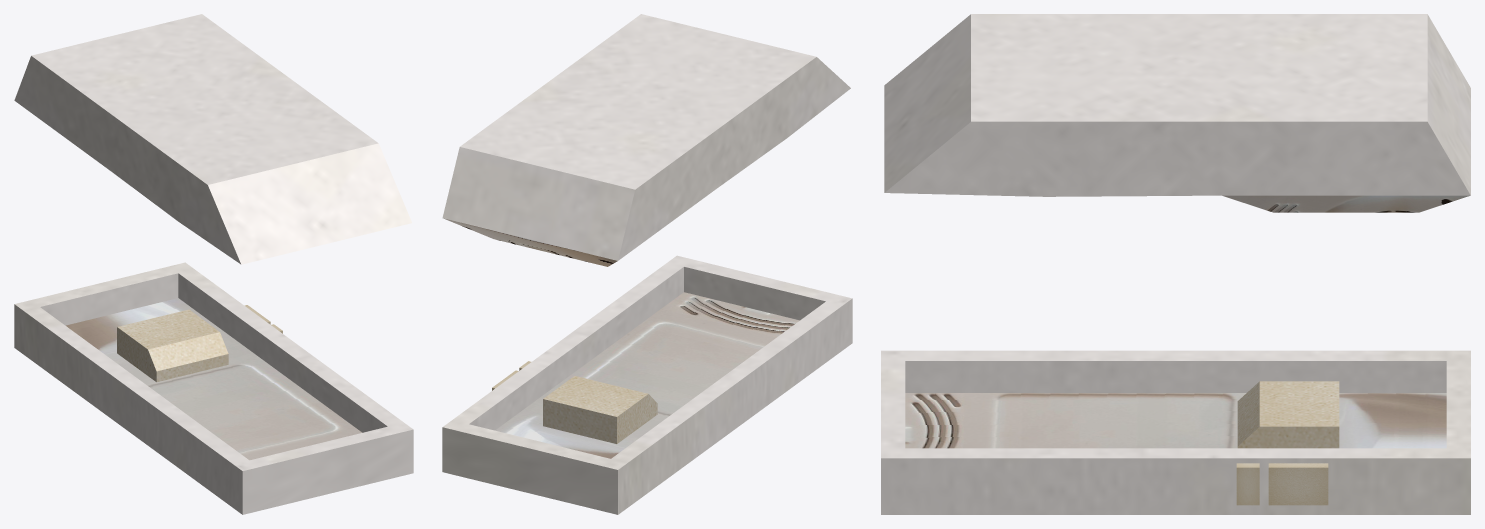
The model's file is intercom.FBX.
The picture shows the model from 3 angles, left to right: view 1: azimuth 30°, elevation 25°; view 2: azimuth 150°, elevation 25°; view 3: azimuth 270°, elevation 25°; orthographic projection. The views are drawn at different scales.
Visible parts, largest first — view 1: Object005, Box001, Object002, Box002; view 2: Object005, Box001, Object002, Box002, Object004; view 3: Object005, Box001, Object002, Box002, Object004, Box003, Box004.
Boxes of the visible parts, <box> form: Object005: <box>14,14,411,264</box>; Box001: <box>14,262,413,514</box>; Object002: <box>66,298,362,460</box>; Box002: <box>117,309,228,382</box>; Object005: <box>442,14,850,260</box>; Box001: <box>442,255,852,514</box>; Object002: <box>495,292,799,458</box>; Box002: <box>543,376,657,443</box>; Object004: <box>444,218,617,266</box>; Object005: <box>884,14,1470,196</box>; Box001: <box>881,350,1470,514</box>; Object002: <box>905,393,1446,448</box>; Box002: <box>1237,381,1339,448</box>; Object004: <box>1222,195,1469,212</box>; Box003: <box>1268,463,1328,505</box>; Box004: <box>1236,463,1259,505</box>.
Bounding box in the file's own units: 32.86 × 53.74 × 73.04.
5 materials, 5 textured.
